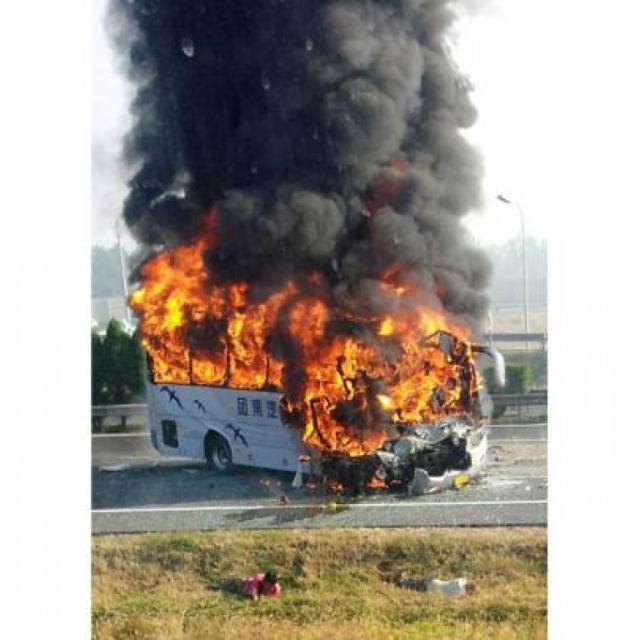Fire: (126, 253, 476, 500)
Smoke: (106, 0, 488, 246)
